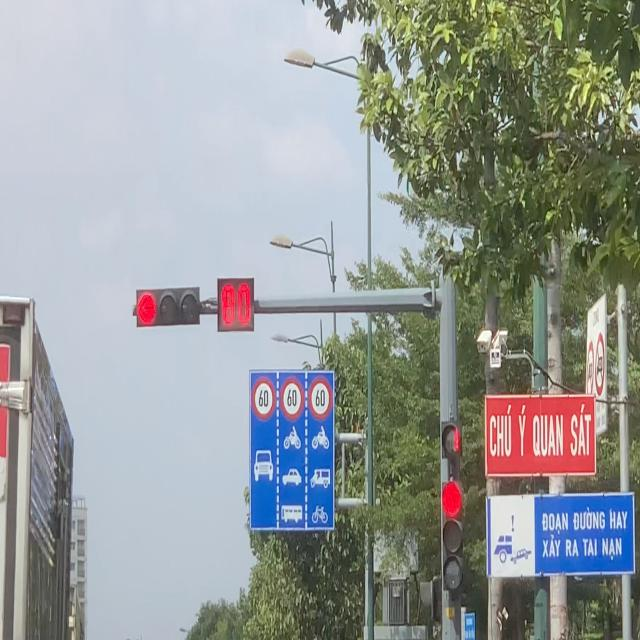Toc do toi da: (253, 368, 278, 420), (280, 377, 308, 420), (308, 374, 332, 422)
